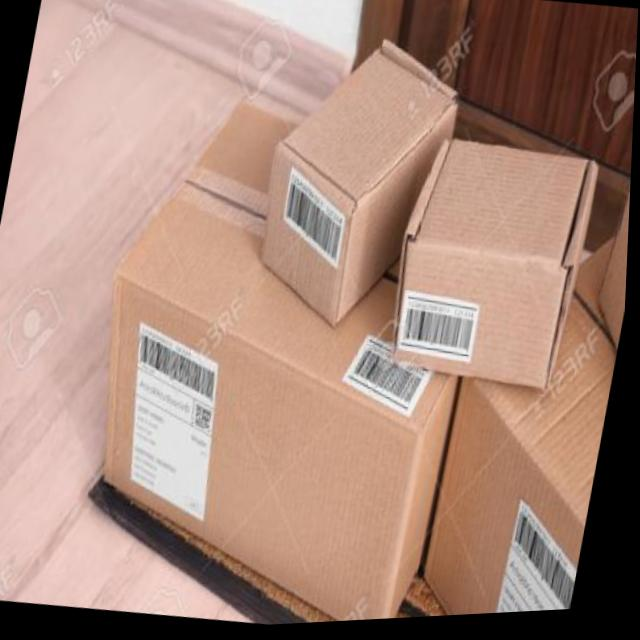box: (53, 69, 518, 637), (413, 243, 631, 622), (245, 18, 475, 355), (377, 119, 605, 413)
